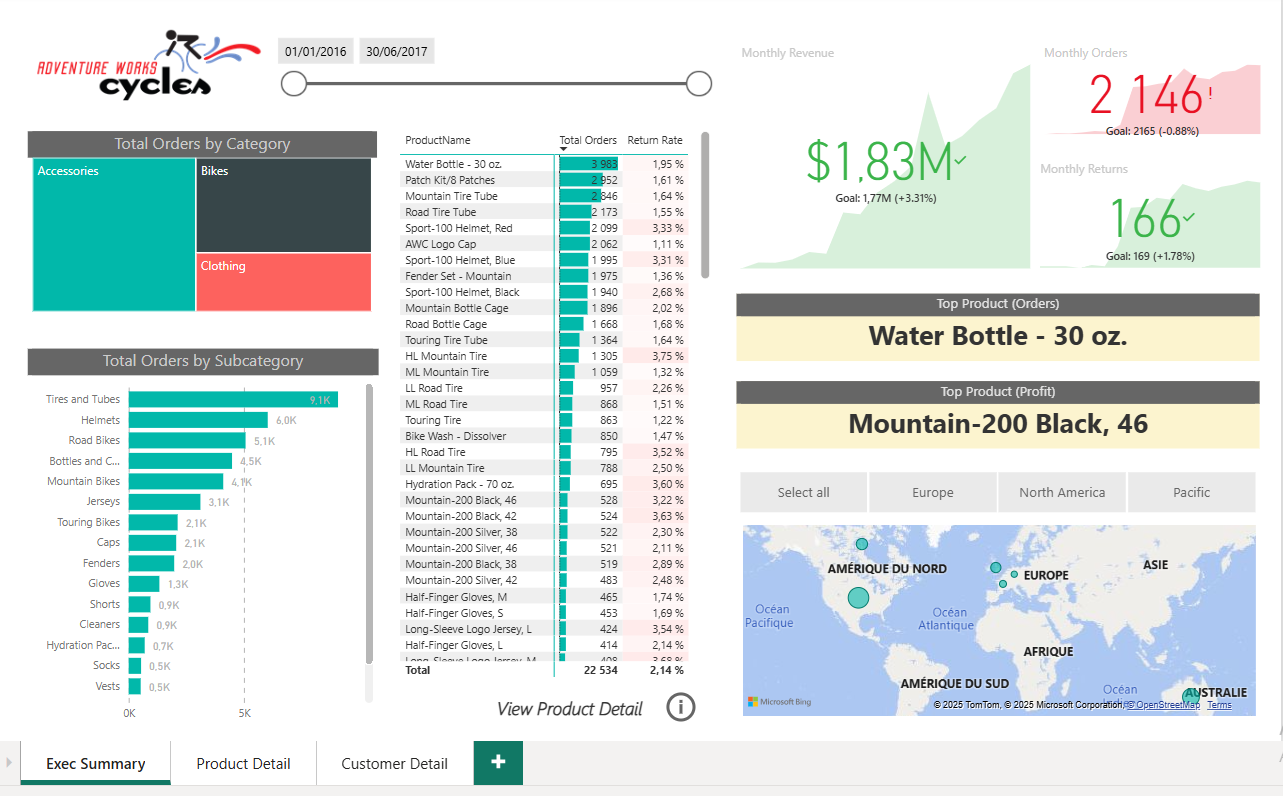

This screenshot's page, from the dashboard's own definition file:
{"tool":"powerbi","page":{"name":"Exec Summary","canvas":[1280,720],"ordinal":0},"visuals":[{"type":"map","fields":{"Category":["AW_Territories_Lookup.Country"],"Size":["AW_Sales.Total Orders"]},"box":[737.2,499.1,523.3,201.3],"z":0},{"type":"slicer","fields":{"Values":["AW_Territories_Lookup.Continent"]},"box":[714.2,443.9,564.7,54.1],"z":1000},{"type":"textbox","box":[492.1,670.1,259.7,37.7],"z":2000},{"type":"image","box":[31.1,5.5,240.2,80.1],"z":3000},{"type":"barChart","title":"Total Orders by Subcategory","fields":{"Y":["AW_Sales.Total Orders"],"Category":["AW_Product_Subcategory_Lookup.SubcategoryName"]},"box":[28.6,328.3,350,380.9],"z":4000},{"type":"treemap","title":"Total Orders by Category","fields":{"Group":["AW_Product_Category_Lookup.CategoryName","AW_Product_Subcategory_Lookup.SubcategoryName"],"Values":["AW_Sales.Total Orders"]},"box":[29.3,110.7,348.9,185.3],"z":5000},{"type":"pivotTable","fields":{"Values":["AW_Sales.Total Orders","AW_Returns.Return Rate"],"Rows":["AW_Product_Category_Lookup.CategoryName","AW_Product_Subcategory_Lookup.SubcategoryName","AW_Product_Lookup.ProductName"]},"box":[395.8,106.4,319.1,555.7],"z":6000},{"type":"slicer","fields":{"Values":["AW_Calendar_Lookup.Date"]},"box":[265.4,7.3,454.1,85.8],"z":7000},{"type":"kpi","title":"Monthly Revenue","fields":{"Indicator":["AW_Sales.Total Revenue"],"TrendLine":["AW_Calendar_Lookup.Start of Month"],"Goal":["AW_Sales.Prev Month Revenue"]},"box":[736.7,24,298.6,229.7],"z":8000},{"type":"kpi","title":"Monthly Orders","fields":{"TrendLine":["AW_Calendar_Lookup.Start of Month"],"Indicator":["AW_Sales.Total Orders"],"Goal":["AW_Sales.Prev Month Orders"]},"box":[1038.6,24,226.5,95.6],"z":9000},{"type":"kpi","title":"Monthly Returns","fields":{"TrendLine":["AW_Calendar_Lookup.Start of Month"],"Indicator":["AW_Returns.Total Returns"],"Goal":["AW_Returns.Prev Month Returns"]},"box":[1035.2,139.6,229.9,112.8],"z":10000},{"type":"card","title":"Top Product (Orders)","fields":{"Values":["Min(AW_Product_Lookup.ProductName)"]},"box":[736.7,273.4,522.8,67.5],"z":11000},{"type":"card","title":"Top Product (Profit)","fields":{"Values":["Min(AW_Product_Lookup.ProductName)"]},"box":[736.7,360.8,522.8,67.5],"z":12000},{"type":"actionButton","box":[661.2,666.9,59.3,38.9],"z":13000}]}

Visuals, with their boxes on the page's 1280x720 design canvas (x1, y1, x2, y2). These are canvas units, not pixel positions in the 1283x796 screenshot, which may show the page scaled, cropped or inside an application window:
map - AW_Territories_Lookup.Country x AW_Sales.Total Orders: crop(737, 499, 1260, 700)
slicer - AW_Territories_Lookup.Continent: crop(714, 444, 1279, 498)
textbox: crop(492, 670, 752, 708)
image: crop(31, 6, 271, 86)
"Total Orders by Subcategory" barChart: crop(29, 328, 379, 709)
"Total Orders by Category" treemap: crop(29, 111, 378, 296)
pivotTable - AW_Sales.Total Orders x AW_Returns.Return Rate: crop(396, 106, 715, 662)
slicer - AW_Calendar_Lookup.Date: crop(265, 7, 720, 93)
"Monthly Revenue" kpi: crop(737, 24, 1035, 254)
"Monthly Orders" kpi: crop(1039, 24, 1265, 120)
"Monthly Returns" kpi: crop(1035, 140, 1265, 252)
"Top Product (Orders)" card: crop(737, 273, 1260, 341)
"Top Product (Profit)" card: crop(737, 361, 1260, 428)
actionButton: crop(661, 667, 720, 706)
